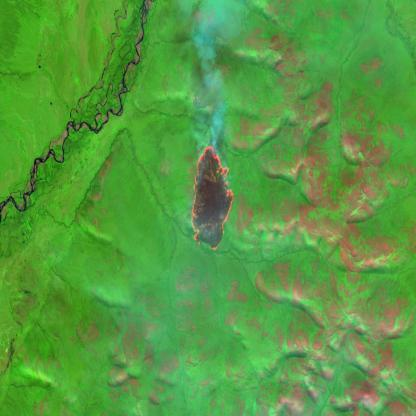fire: (189, 139, 237, 255)
